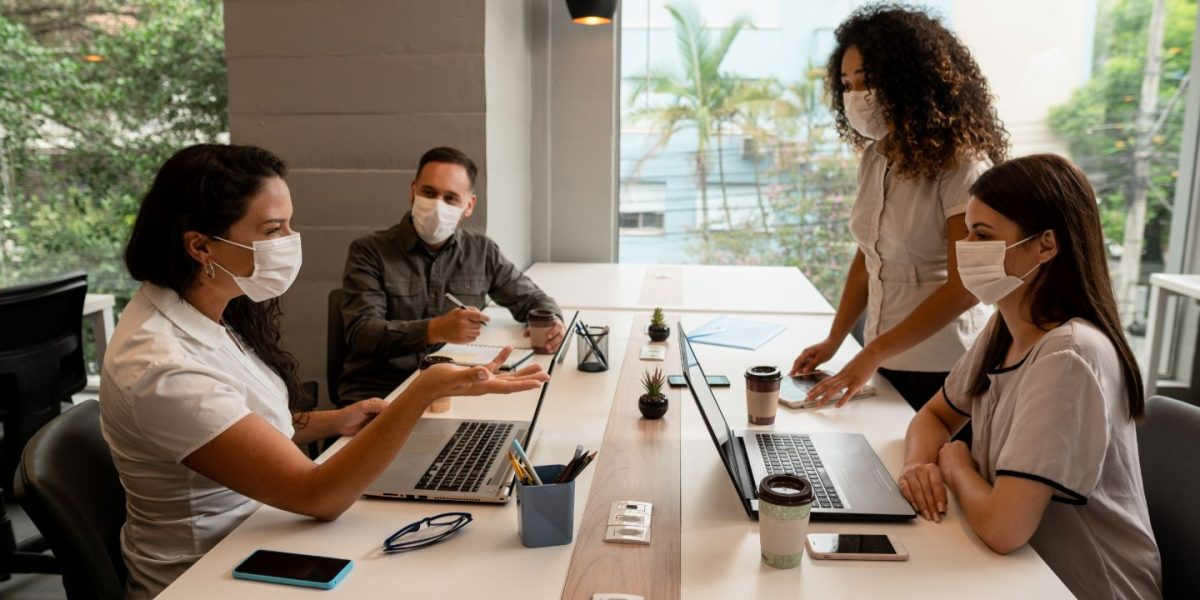with_mask: (206, 193, 303, 310), (951, 189, 1034, 307), (828, 31, 899, 142), (410, 162, 469, 246)
